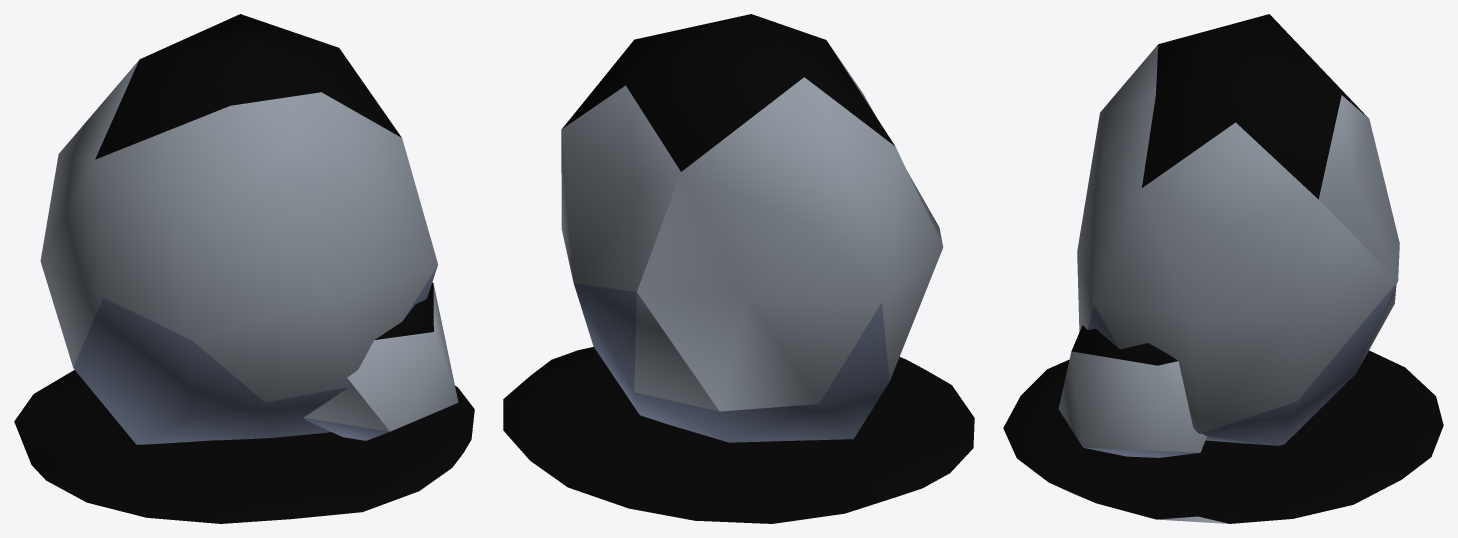
File: MoonBoulderA.fbx
3 renders of one model, left to right at view 1: azimuth 30°, elevation 25°; view 2: azimuth 150°, elevation 25°; view 3: azimuth 270°, elevation 25°, orthographic. The views are drawn at different scales.
Visible parts, largest first — view 1: MoonBoulderA; view 2: MoonBoulderA; view 3: MoonBoulderA.
Part boxes in pixels (bbox=[...]): MoonBoulderA: bbox=[14, 14, 474, 523]; MoonBoulderA: bbox=[503, 14, 974, 523]; MoonBoulderA: bbox=[1003, 14, 1443, 523].
Size of the model in its own units: 1.71 by 1.59 by 1.63.
Materials: 1 (1 with a texture image).
